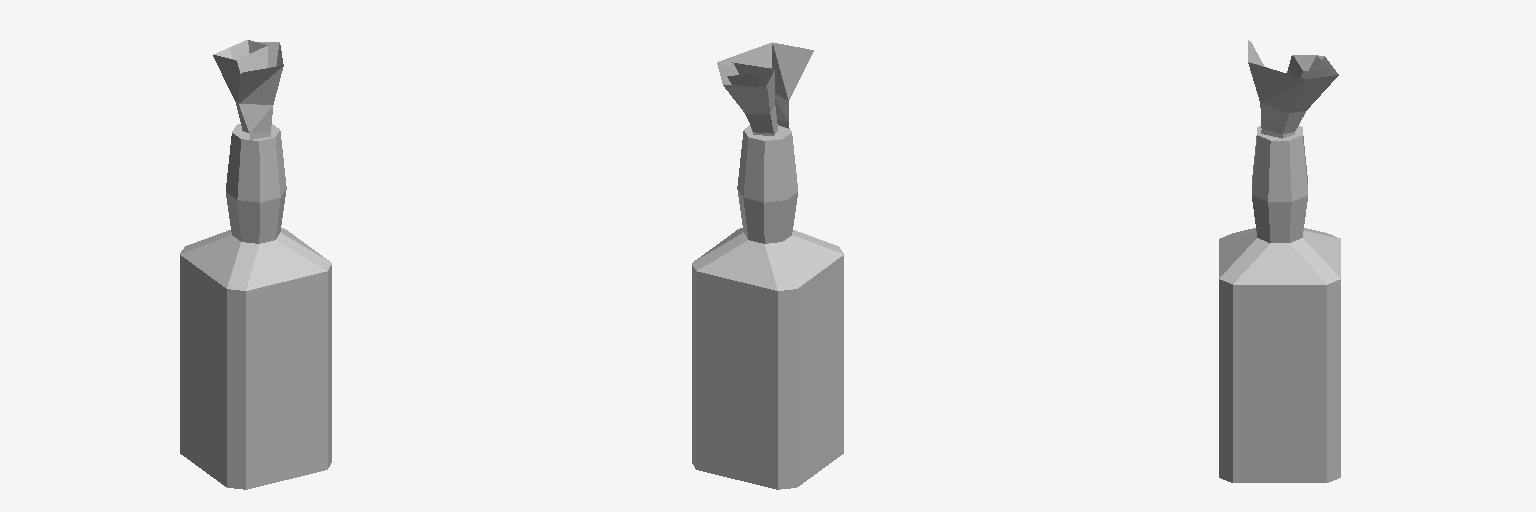
The model's file is REOB Molotov.obj.
The picture shows the model from 3 angles: view 1: azimuth 30°, elevation 25°; view 2: azimuth 150°, elevation 25°; view 3: azimuth 270°, elevation 25°; orthographic projection.
Parts seen in each view (by area): view 1: Object.000_Mesh.000; view 2: Object.000_Mesh.000; view 3: Object.000_Mesh.000.
Part boxes in pixels (left/top/right/bottom): Object.000_Mesh.000: left=180, top=40, right=331, bottom=489; Object.000_Mesh.000: left=692, top=42, right=843, bottom=489; Object.000_Mesh.000: left=1219, top=40, right=1340, bottom=482.
Bounding box in the file's own units: 0.1032 × 0.3769 × 0.1036.